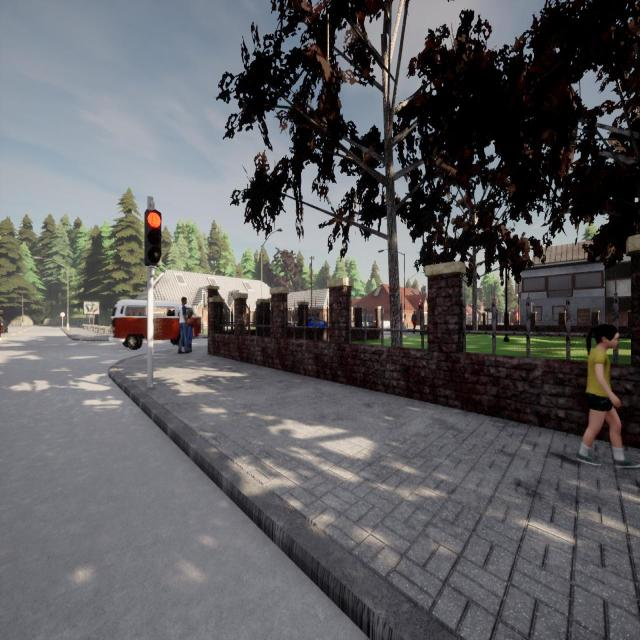Pedestrian: (575, 322, 640, 472), (177, 296, 188, 353), (186, 315, 193, 352), (411, 310, 417, 334)
Traffic_Signs: (60, 312, 65, 317)
Vehicle: (111, 300, 201, 349), (308, 316, 328, 328), (0, 306, 4, 338)
traffic_light: (144, 209, 162, 267), (203, 294, 207, 308), (418, 302, 421, 310)
